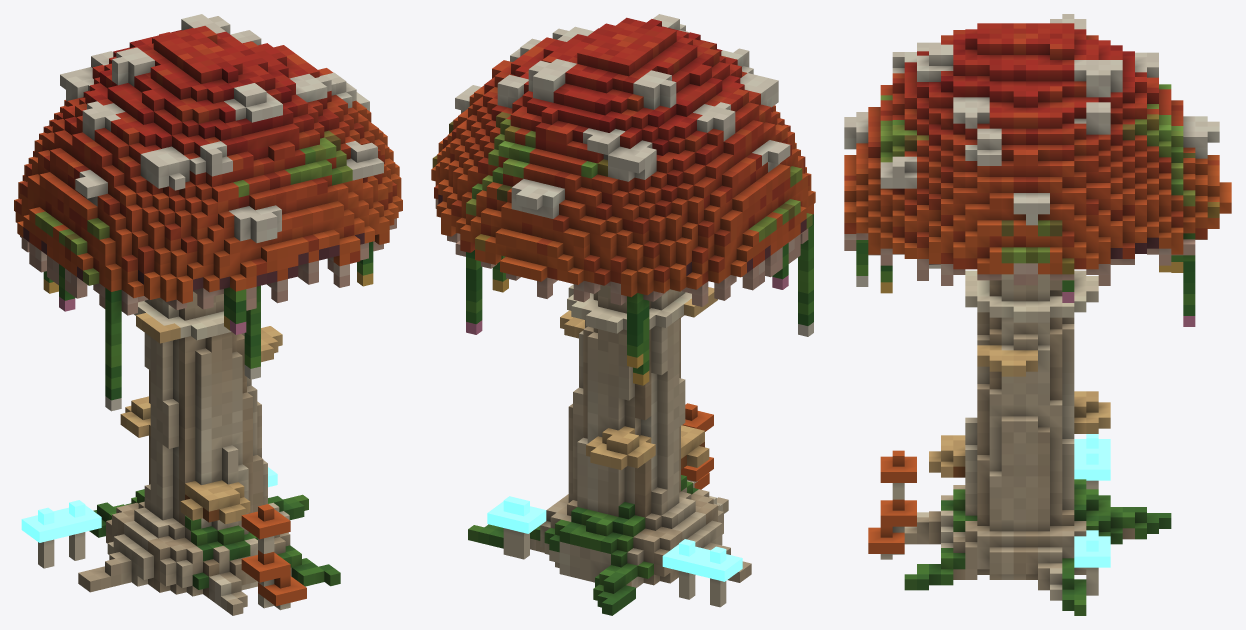
The model's file is tree-mushroom-l.glb.
The picture shows the model from 3 angles, left to right: view 1: azimuth 30°, elevation 25°; view 2: azimuth 150°, elevation 25°; view 3: azimuth 270°, elevation 25°; orthographic projection.
Parts seen in each view (by area): view 1: TREE_MUSHROOM_L__cap; view 2: TREE_MUSHROOM_L__cap; view 3: TREE_MUSHROOM_L__cap.
Part boxes in pixels (left/top/right/bottom): TREE_MUSHROOM_L__cap: left=14, top=14, right=402, bottom=615; TREE_MUSHROOM_L__cap: left=431, top=14, right=815, bottom=615; TREE_MUSHROOM_L__cap: left=844, top=14, right=1231, bottom=615.
Bounding box in the file's own units: 1.32 × 2 × 1.36.
